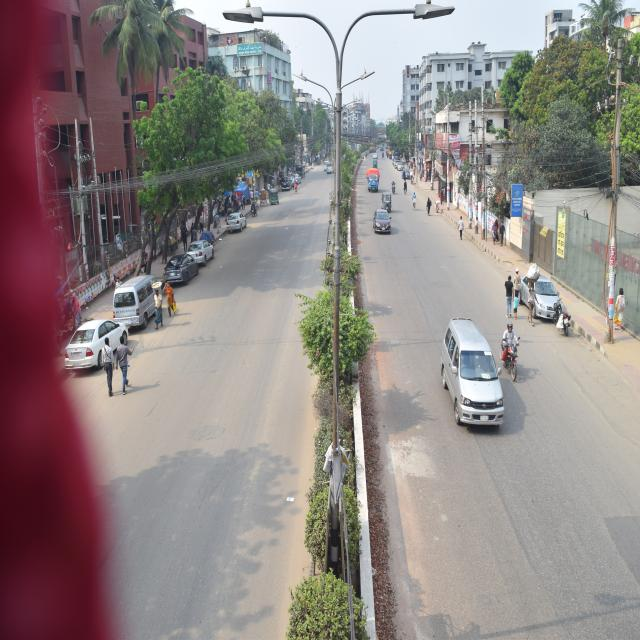car: (62, 323, 132, 376), (518, 254, 568, 326), (158, 255, 204, 295), (184, 236, 218, 267), (223, 203, 253, 237), (374, 205, 394, 237)
microbus: (430, 306, 507, 443), (110, 257, 168, 330)
motorbike: (497, 336, 528, 386), (547, 299, 575, 336), (391, 179, 396, 194)
pickup-van: (363, 163, 381, 198)
